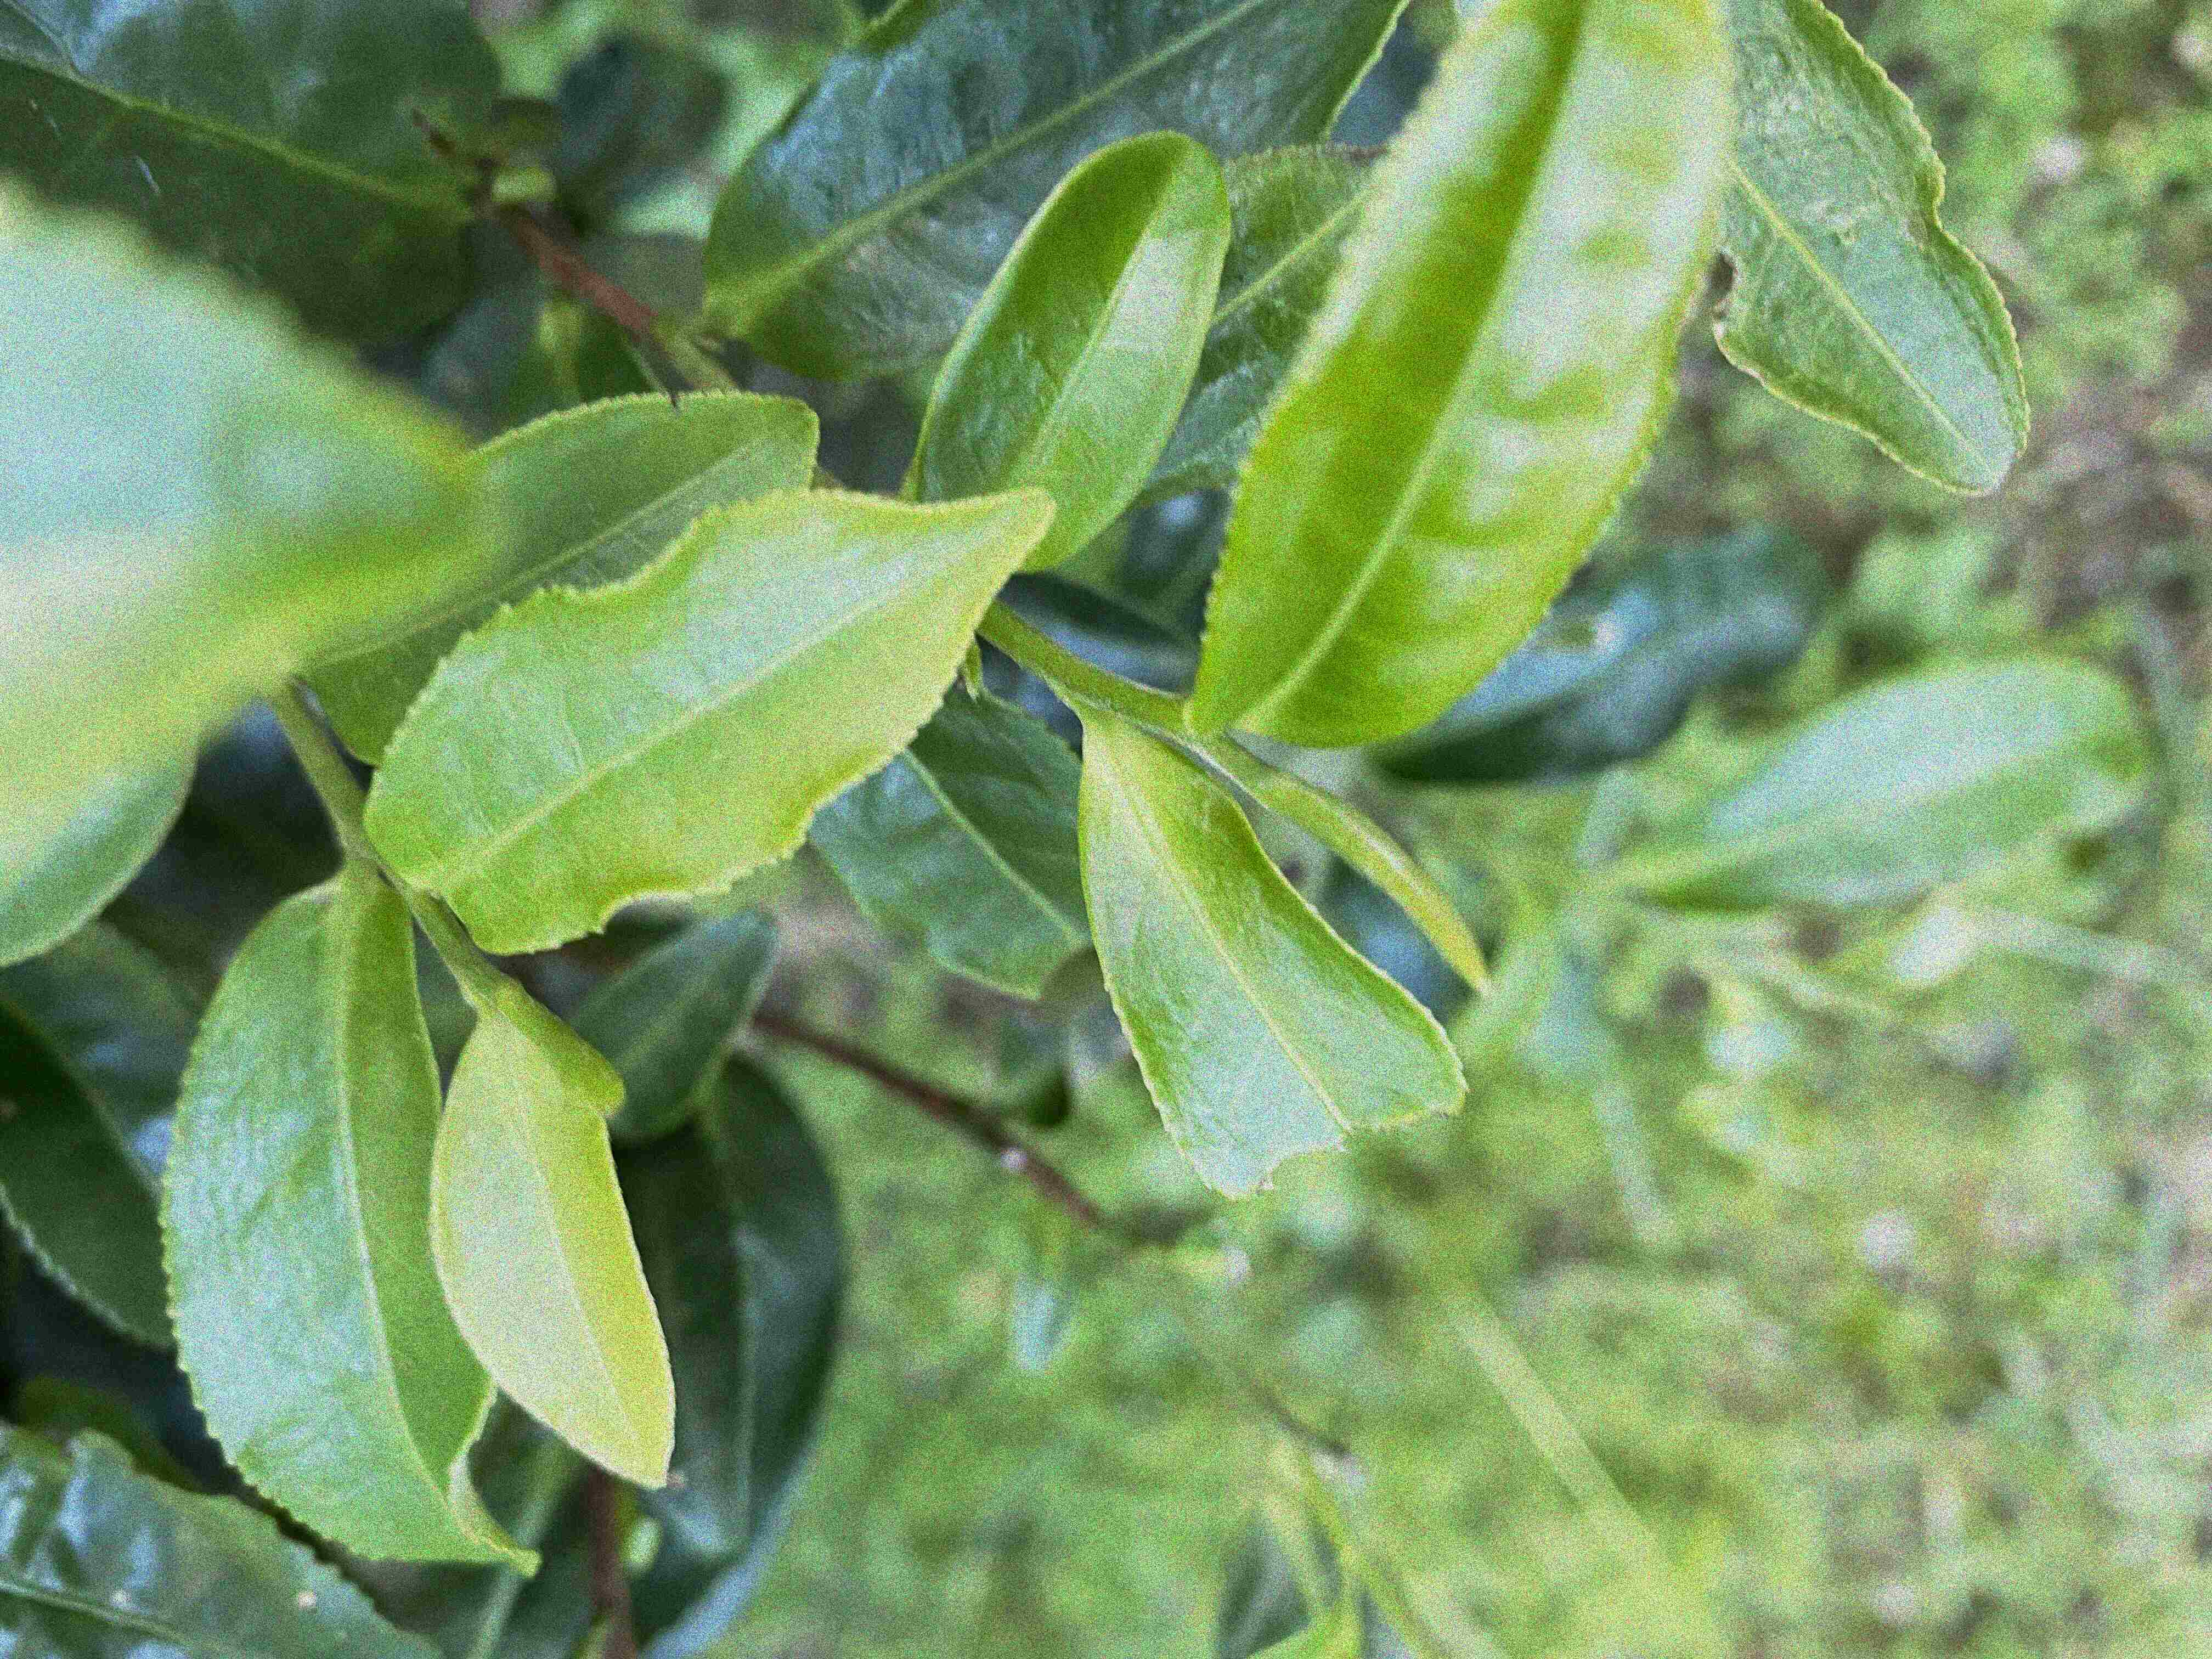chihuo_high: (1071, 714, 1470, 1208)
chihuo_low: (1702, 0, 2033, 498)
healthy: (1186, 5, 1733, 742), (359, 474, 1059, 958), (155, 863, 547, 1582), (909, 132, 1238, 579), (423, 1018, 683, 1492)
